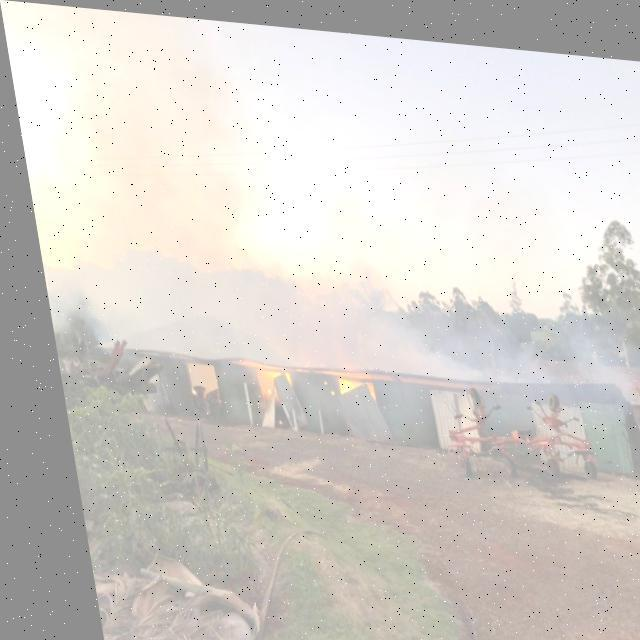Fire: (233, 356, 270, 376), (325, 371, 346, 388)
